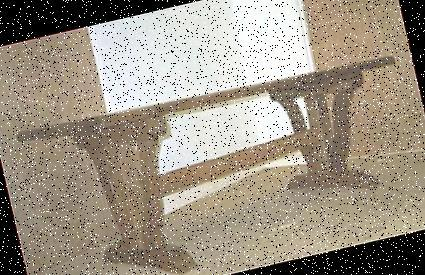Mesa: (16, 43, 424, 274)
